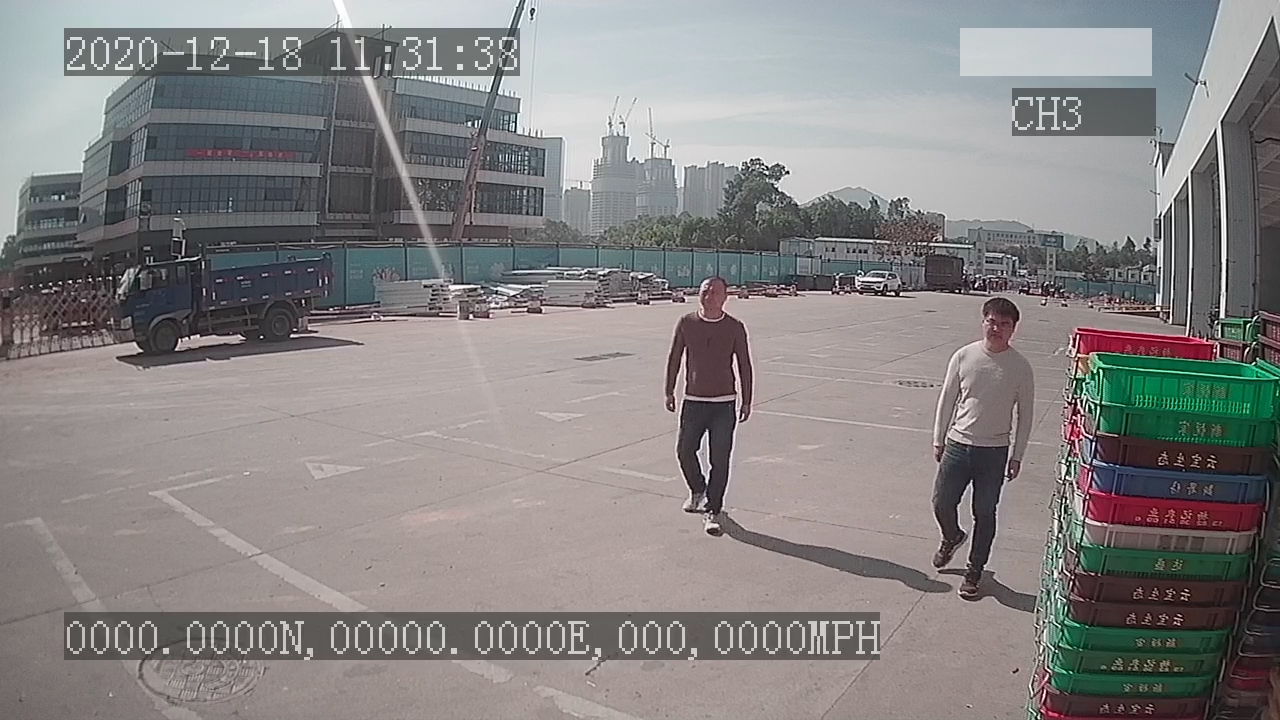person: (924, 294, 1036, 603), (659, 273, 756, 539)
